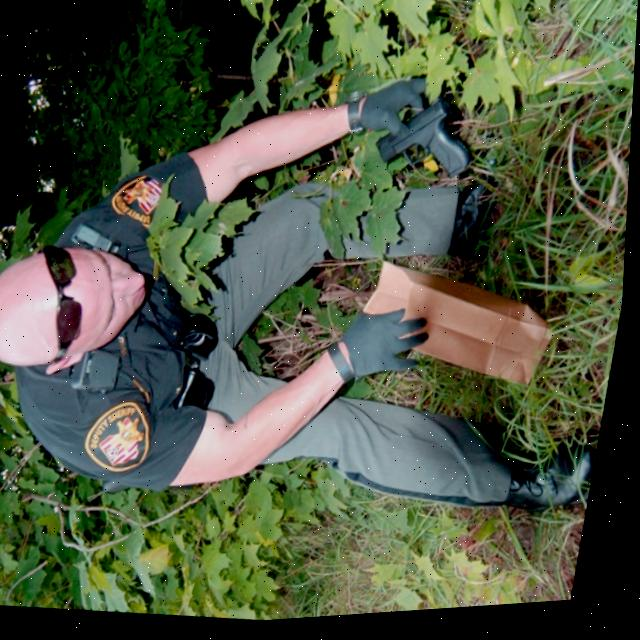pistol: (372, 96, 484, 188)
